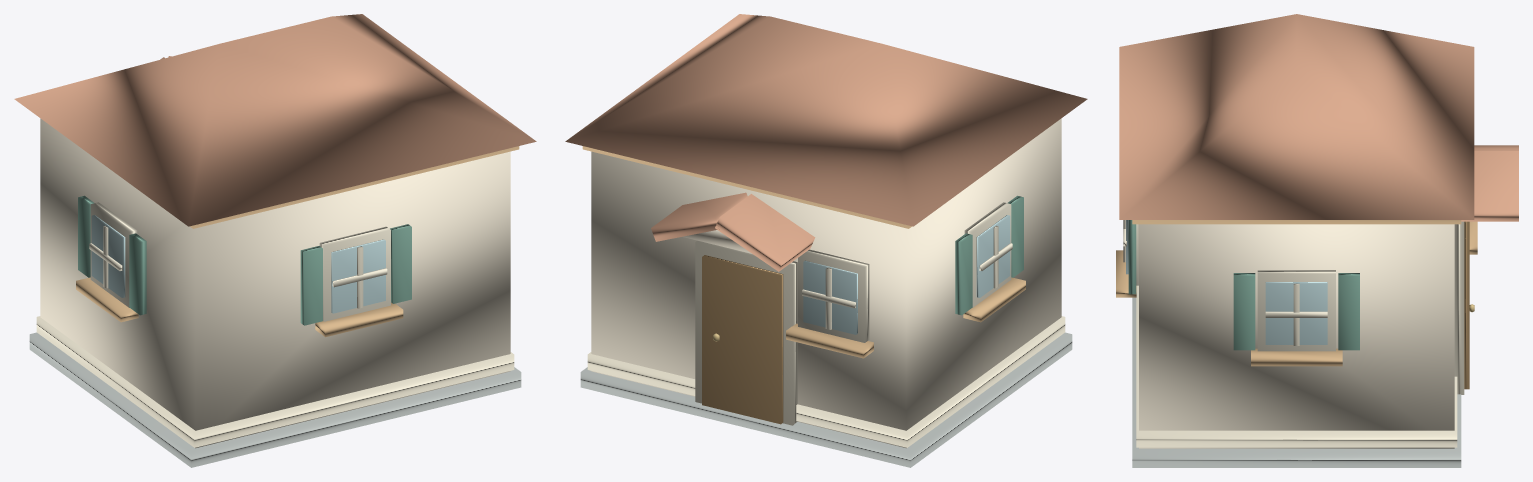
File: cottage_8_low.glb
The picture shows the model from 3 angles, left to right: view 1: azimuth 30°, elevation 25°; view 2: azimuth 150°, elevation 25°; view 3: azimuth 270°, elevation 25°; orthographic projection.
Bounding box in the file's own units: 3.82 × 3.49 × 3.7.
